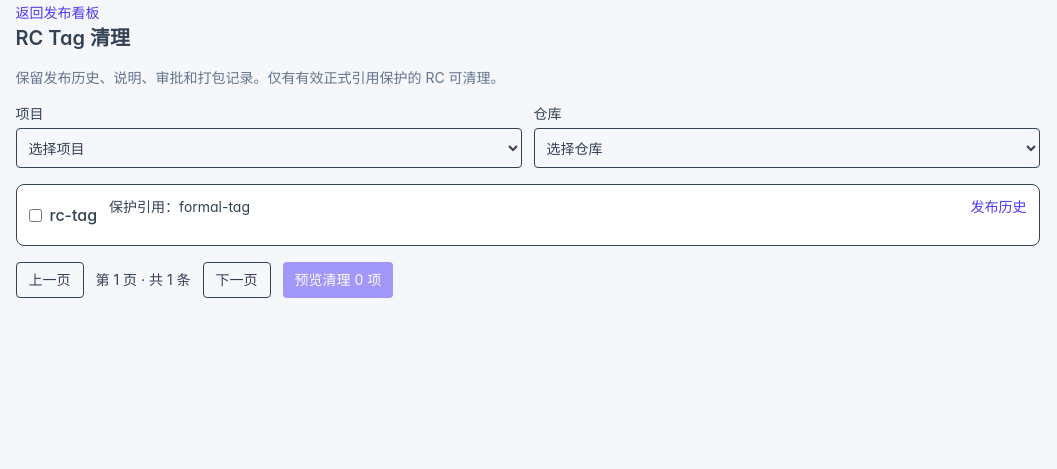
预览后资格失效逐项显示阻止原因，不宣称已清理
Click the checkbox named "选择 rc-tag". click: coordinates (35, 215)
box: [28,208,42,222]
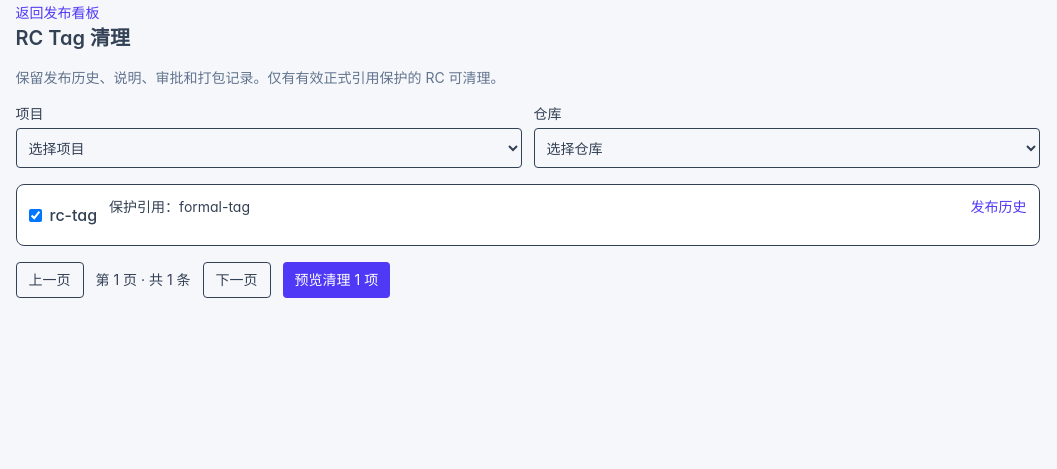
Click the button "预览清理 1 项". click: coordinates (336, 280)
box: [283,262,390,298]
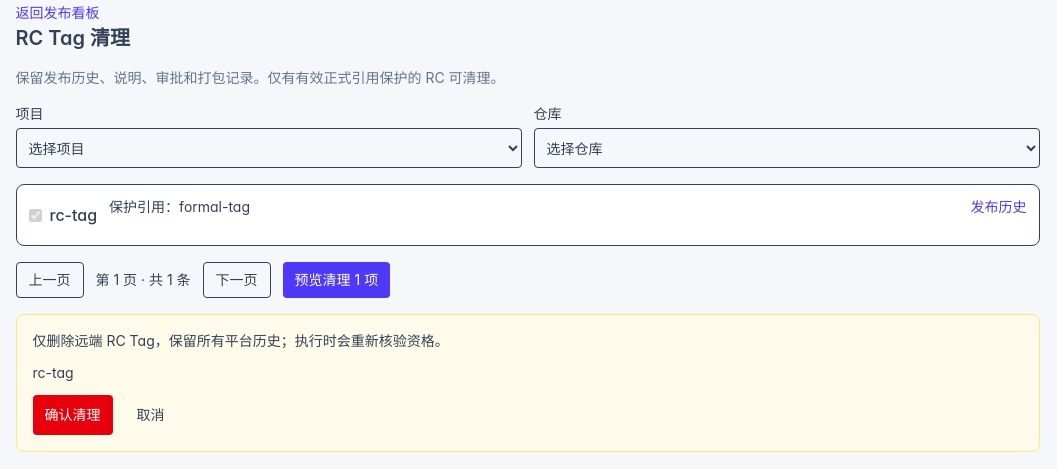
Click the button "确认清理". click: coordinates (72, 415)
box: [32,395,112,435]
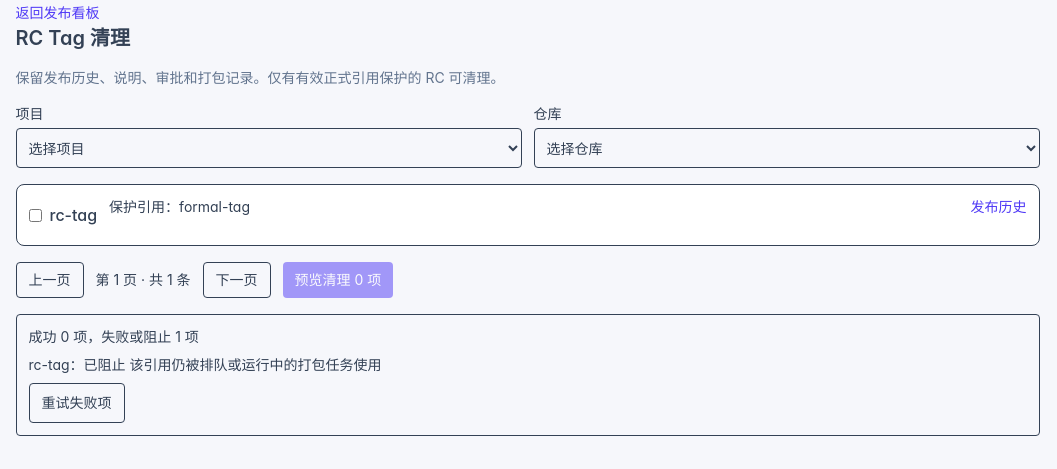
expect the text "该引用仍被排队或运行中的打包任务使用" is shown: met, box [130,356,382,373]
expect the text "成功 0 项，失败或阻止 1 项" is shown: met, box [28,328,199,345]
